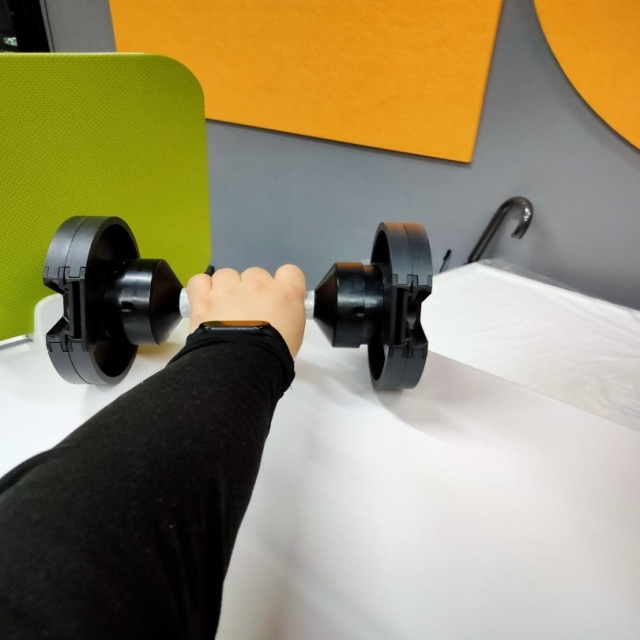03-6kg: (41, 216, 433, 391)
